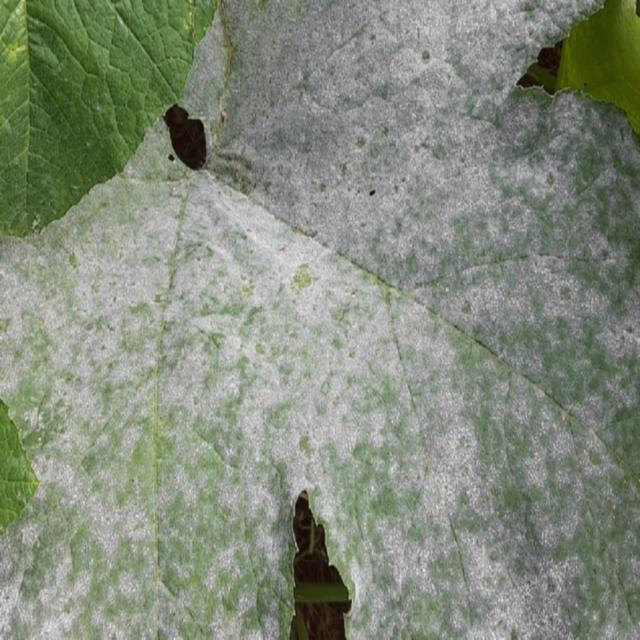Powdery Mildew: (26, 18, 640, 638)
